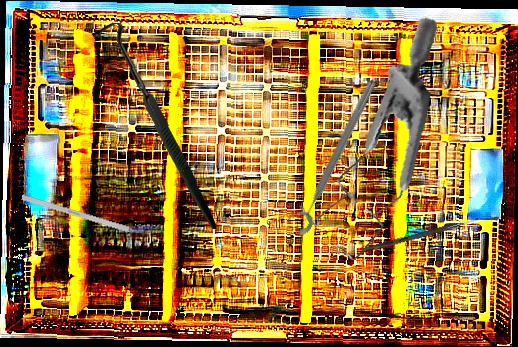Fixation Ring: (282, 73, 381, 239)
Hook Surgical: (90, 22, 220, 229), (21, 194, 154, 240), (362, 213, 485, 255)
Speculum: (276, 15, 469, 270)
